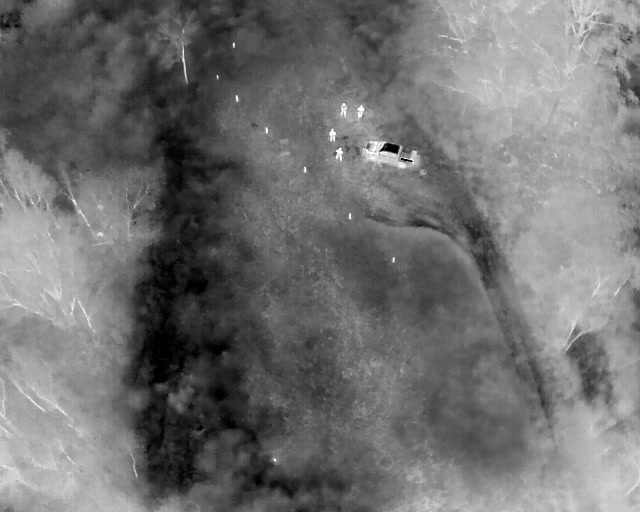car: (364, 140, 418, 169)
person: (356, 104, 365, 119), (335, 147, 344, 161), (328, 127, 336, 142), (339, 102, 347, 117)
